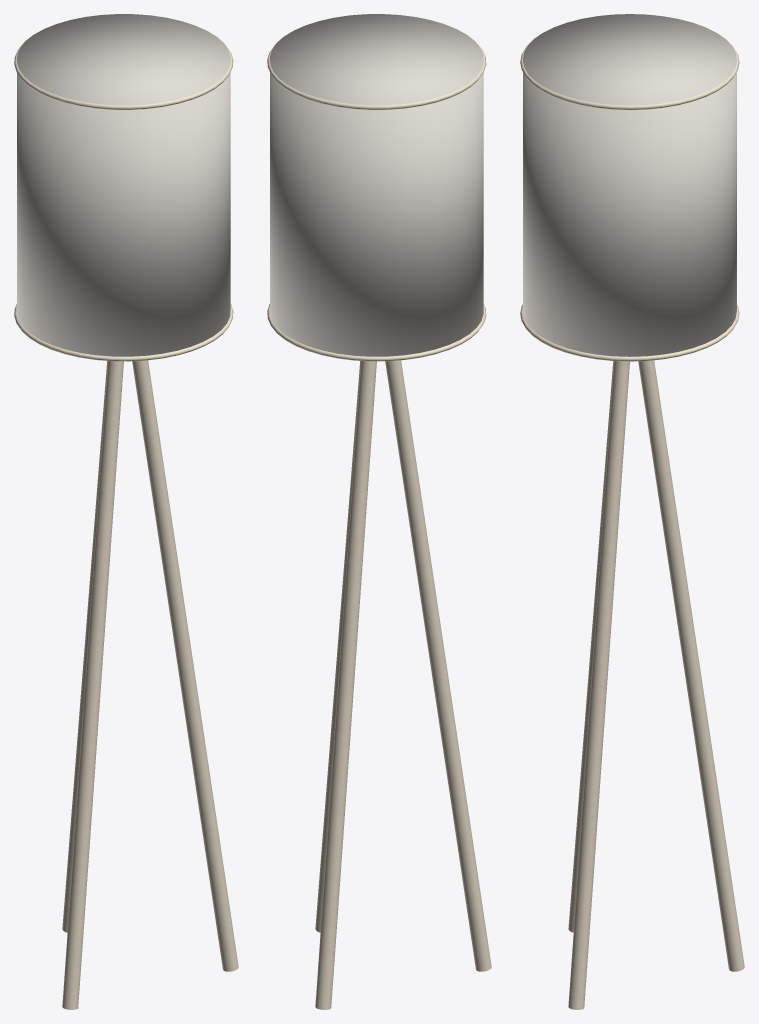
File: sg_floor_lamp.glb
The picture shows the model from 3 angles, left to right: view 1: azimuth 30°, elevation 25°; view 2: azimuth 150°, elevation 25°; view 3: azimuth 270°, elevation 25°; orthographic projection.
Visible parts, largest first — view 1: shade, leg1, leg2, leg0, rimt, rimb; view 2: shade, leg0, leg1, leg2, rimt, rimb; view 3: shade, leg2, leg0, leg1, rimt, rimb.
Boxes of the visible parts, box(x1,y1,x2,y2) form: shade: box(17, 14, 230, 356); leg1: box(62, 361, 123, 1009); leg2: box(132, 360, 238, 971); leg0: box(62, 361, 107, 932); rimt: box(14, 35, 233, 109); rimb: box(14, 304, 233, 361); shade: box(270, 14, 483, 356); leg0: box(315, 361, 376, 1009); leg1: box(385, 360, 491, 971); leg2: box(315, 361, 360, 932); rimt: box(267, 35, 486, 109); rimb: box(267, 304, 486, 361); shade: box(523, 14, 736, 356); leg2: box(568, 361, 629, 1009); leg0: box(638, 360, 744, 971); leg1: box(568, 361, 613, 932); rimt: box(520, 36, 739, 109); rimb: box(520, 304, 739, 361).
Bounding box in the file's own units: 0.328 × 1.5 × 0.3359.
